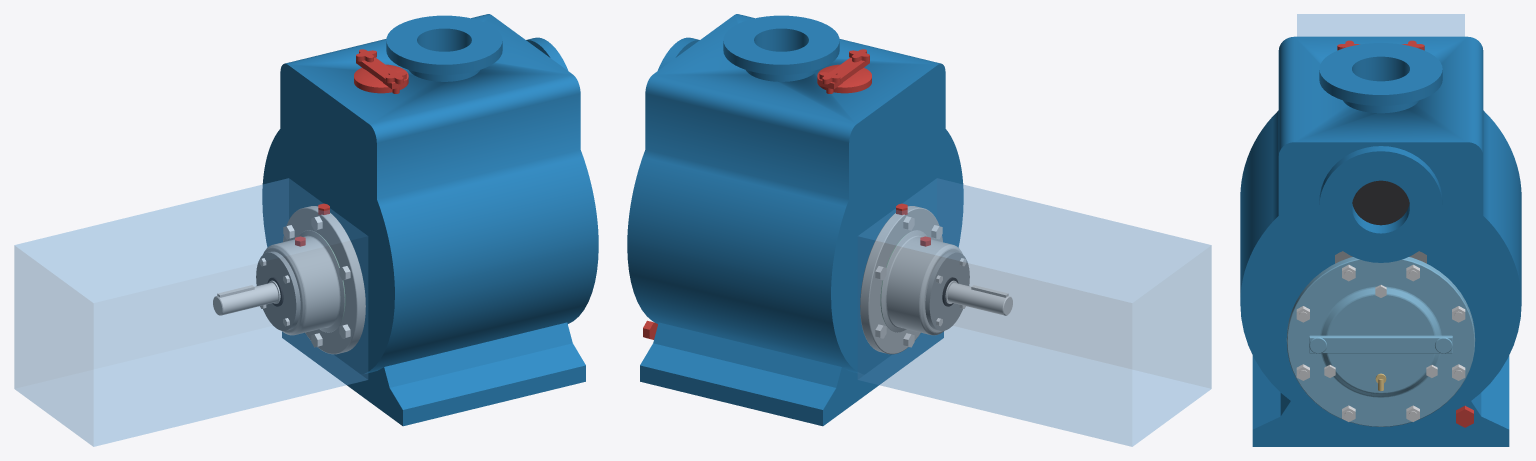
The model's file is b9621a_pump.glb.
3 renders of one model, left to right at view 1: azimuth 30°, elevation 25°; view 2: azimuth 150°, elevation 25°; view 3: azimuth 270°, elevation 25°, orthographic. The views are drawn at different scales.
Visible parts, largest first — view 1: B9621A_ST4_CASING, B9621A_ANN_REMOVAL_SPACE, B9621A_ST4_DISCHARGE_FLANGE, B9621A_ST4_BEARING_HOUSING, B9621A_ST4_SEAL_HOUSING, B9621A_ST4_BEARING_COVER, B9621A_ST4_FILL_PLUG, B9621A_ST4_SHAFT, B9621A_ST4_ROTATING_ASSEMBLY_SCREWS; view 2: B9621A_ST4_CASING, B9621A_ANN_REMOVAL_SPACE, B9621A_ST4_DISCHARGE_FLANGE, B9621A_ST4_BEARING_HOUSING, B9621A_ST4_SEAL_HOUSING, B9621A_ST4_BEARING_COVER, B9621A_ST4_FILL_PLUG, B9621A_ST4_SHAFT, B9621A_ST4_ROTATING_ASSEMBLY_SCREWS; view 3: B9621A_ST4_CASING, B9621A_ST4_INSPECTION_COVER, B9621A_ST4_SUCTION_FLANGE, B9621A_ST4_DISCHARGE_FLANGE, B9621A_ANN_REMOVAL_SPACE, B9621A_ST4_FLAP_VALVE, B9621A_ST4_COVER_NUTS, B9621A_ST4_COVER_STUDS, B9621A_ST4_WEAR_PLATE_NUTS, B9621A_ST4_DRAIN_PLUG.
Boxes of the visible parts, <box> form: B9621A_ST4_CASING: <box>262,14,598,426</box>; B9621A_ANN_REMOVAL_SPACE: <box>14,178,367,446</box>; B9621A_ST4_DISCHARGE_FLANGE: <box>386,15,502,81</box>; B9621A_ST4_BEARING_HOUSING: <box>263,230,344,335</box>; B9621A_ST4_SEAL_HOUSING: <box>283,206,365,354</box>; B9621A_ST4_BEARING_COVER: <box>256,251,300,330</box>; B9621A_ST4_FILL_PLUG: <box>354,49,408,93</box>; B9621A_ST4_SHAFT: <box>213,280,280,315</box>; B9621A_ST4_ROTATING_ASSEMBLY_SCREWS: <box>283,216,350,347</box>; B9621A_ST4_CASING: <box>627,14,963,426</box>; B9621A_ANN_REMOVAL_SPACE: <box>858,178,1211,446</box>; B9621A_ST4_DISCHARGE_FLANGE: <box>723,15,839,81</box>; B9621A_ST4_BEARING_HOUSING: <box>881,230,962,335</box>; B9621A_ST4_SEAL_HOUSING: <box>860,206,942,354</box>; B9621A_ST4_BEARING_COVER: <box>925,251,969,330</box>; B9621A_ST4_FILL_PLUG: <box>817,49,871,93</box>; B9621A_ST4_SHAFT: <box>945,280,1012,315</box>; B9621A_ST4_ROTATING_ASSEMBLY_SCREWS: <box>875,216,942,347</box>; B9621A_ST4_CASING: <box>1240,36,1521,446</box>; B9621A_ST4_INSPECTION_COVER: <box>1286,257,1475,426</box>; B9621A_ST4_SUCTION_FLANGE: <box>1319,146,1442,262</box>; B9621A_ST4_DISCHARGE_FLANGE: <box>1319,43,1442,113</box>; B9621A_ANN_REMOVAL_SPACE: <box>1297,14,1464,36</box>; B9621A_ST4_FLAP_VALVE: <box>1352,180,1409,225</box>; B9621A_ST4_COVER_NUTS: <box>1296,264,1465,421</box>; B9621A_ST4_COVER_STUDS: <box>1299,270,1462,419</box>; B9621A_ST4_WEAR_PLATE_NUTS: <box>1324,285,1437,377</box>; B9621A_ST4_DRAIN_PLUG: <box>1456,405,1473,427</box>.
Bounding box in the file's own units: 1.08 × 0.6615 × 0.502.
